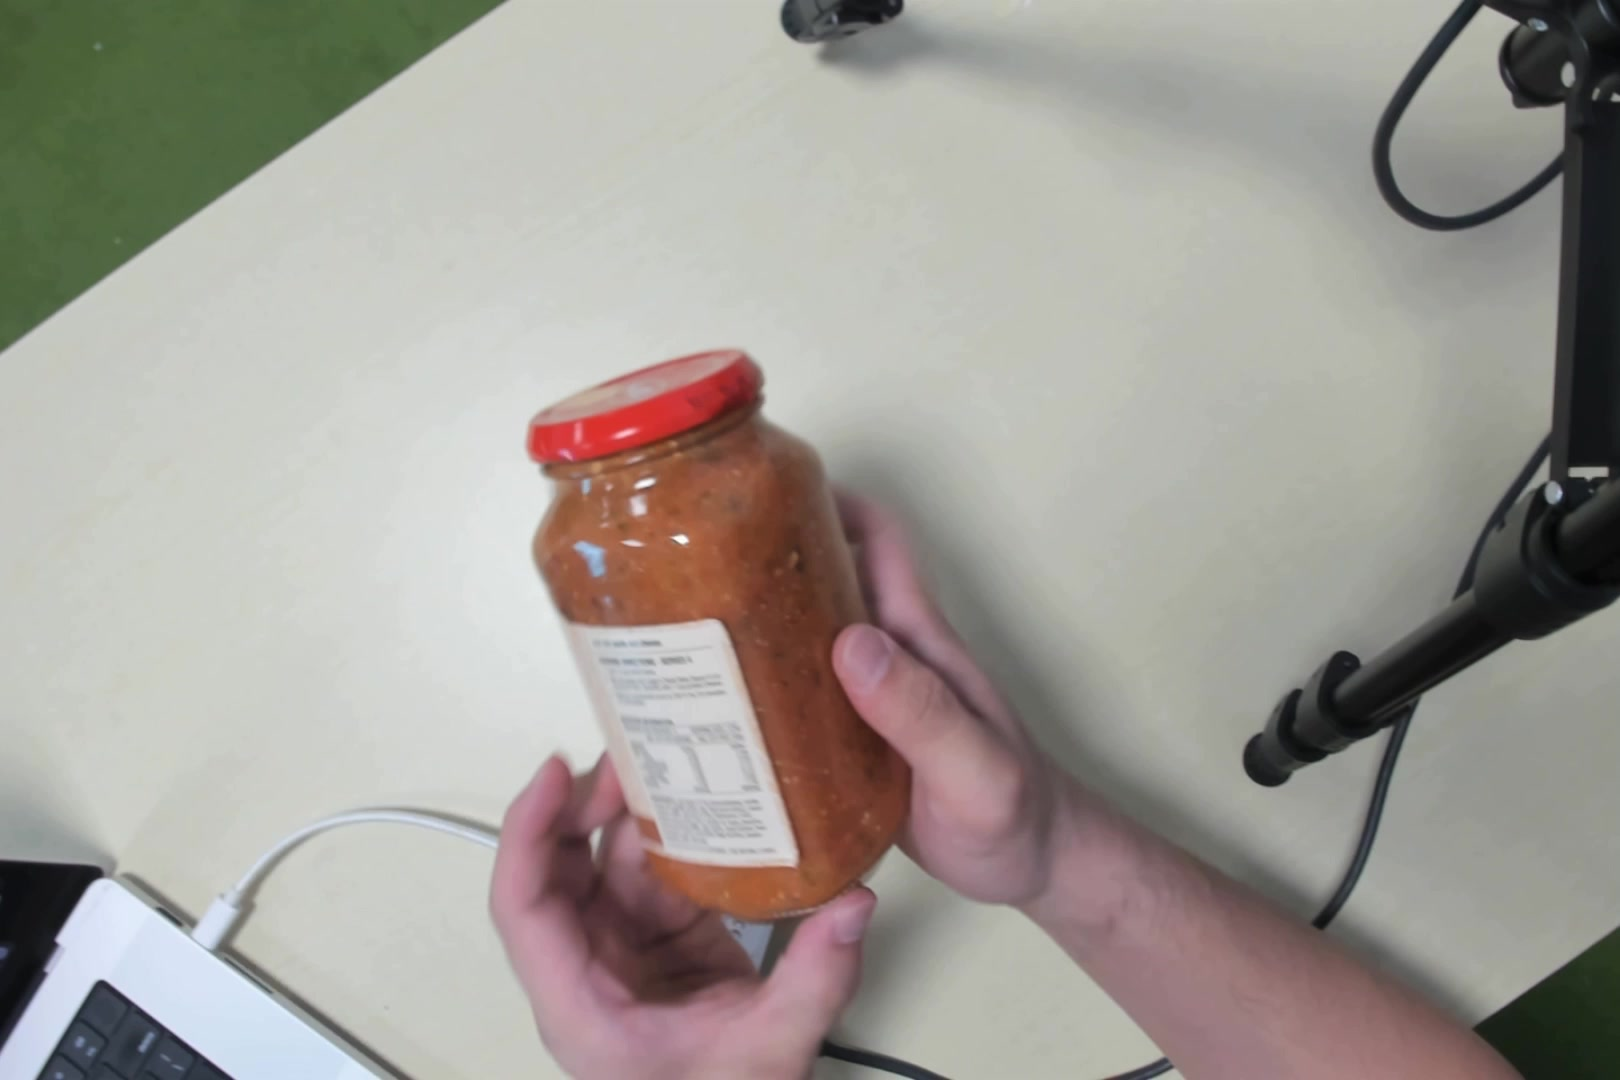Pasta_500-599g_Halal_NonHealthy: (563, 381, 893, 892)
